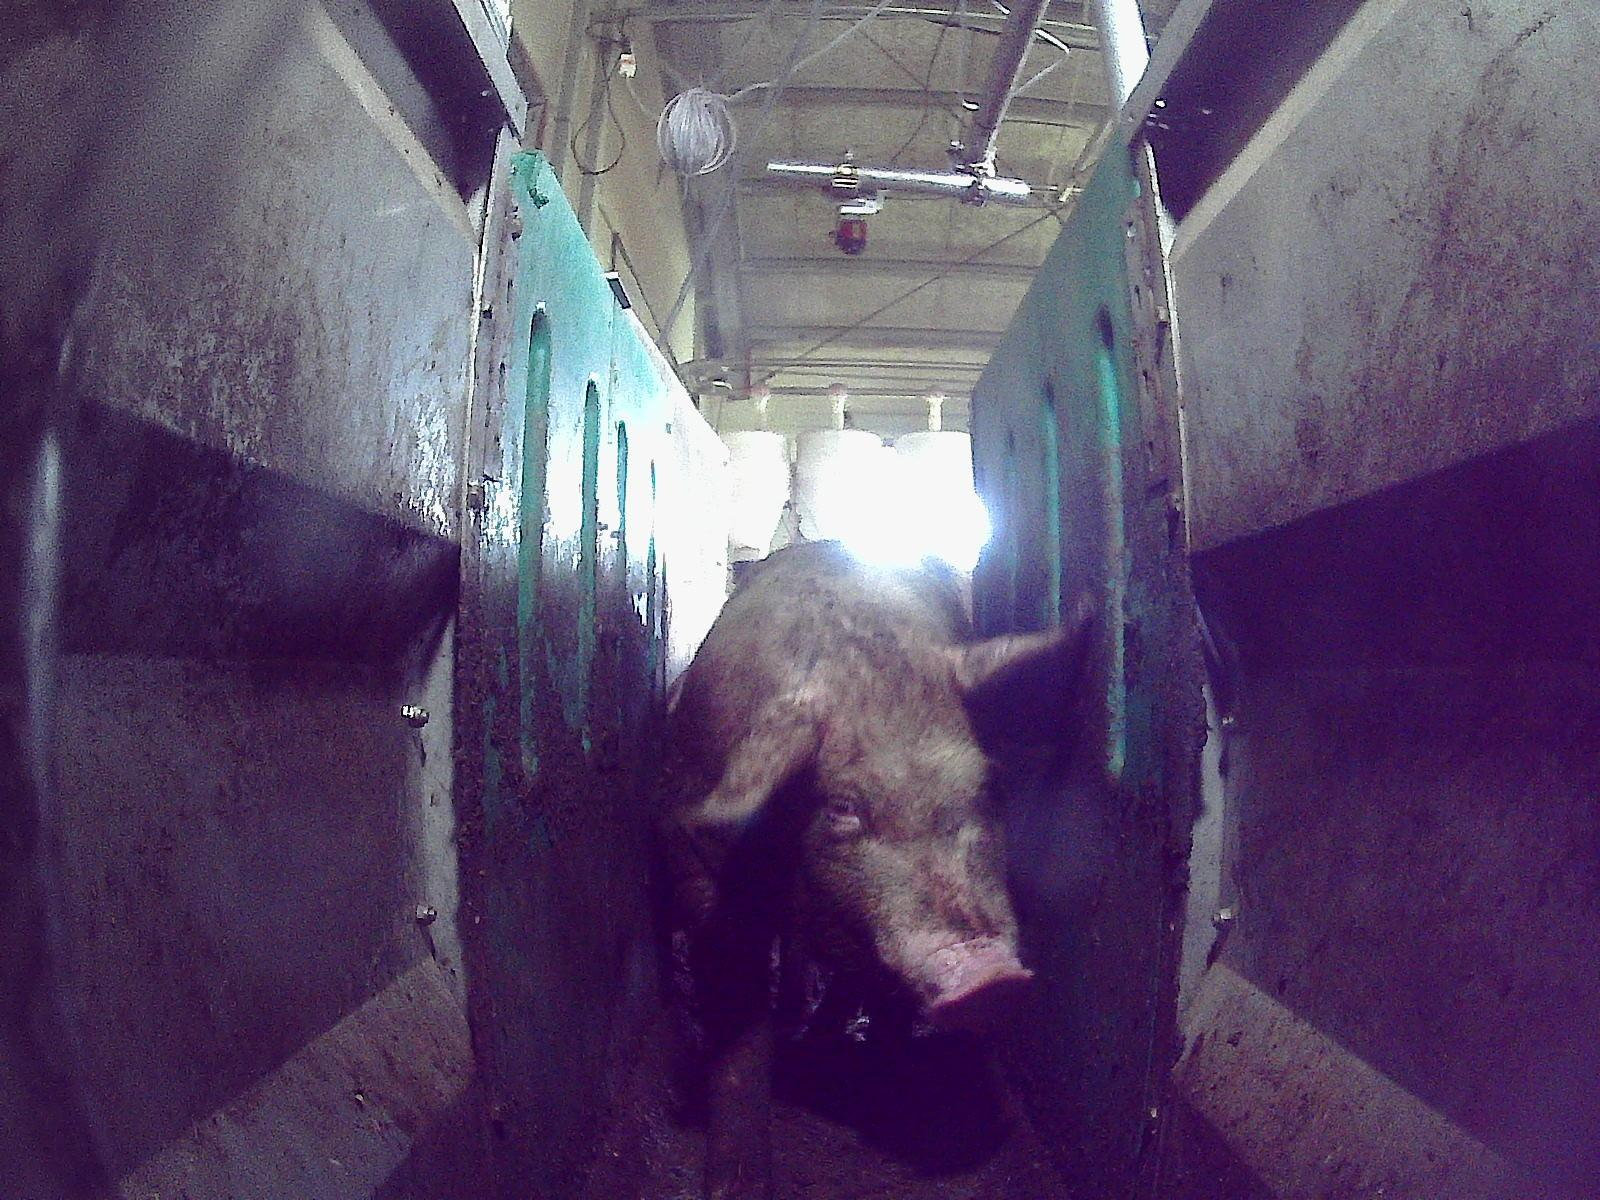Face: (776, 644, 1036, 1039)
